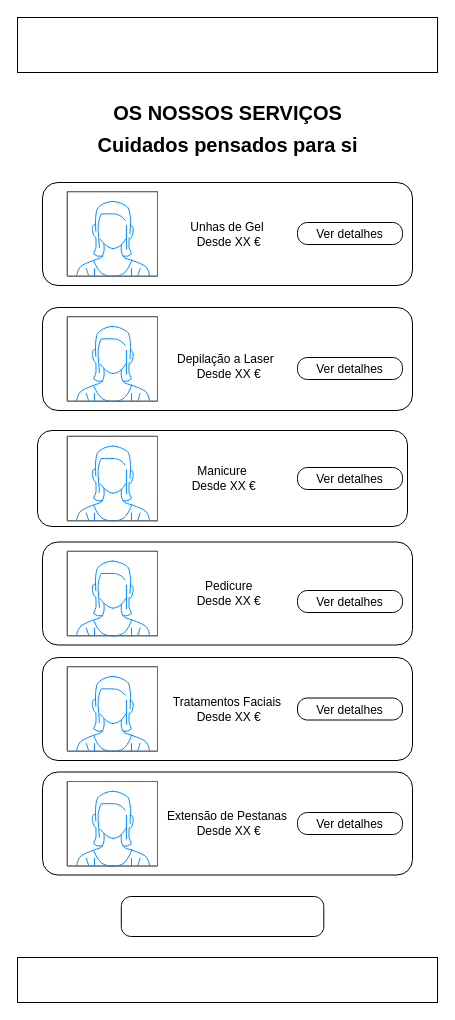
Some shapes in this 455 by 1020 pixel diagram are drawn without their labels. The shapes that lost their labels are listed below. From the top down, each one's box as (x1, y1, x2, y2) in pixels, then its label:
(16, 16, 438, 72): SERENA ☰
(120, 896, 324, 936): Fazer marcação
(16, 956, 438, 1002): SERENA Contactos | Horário
